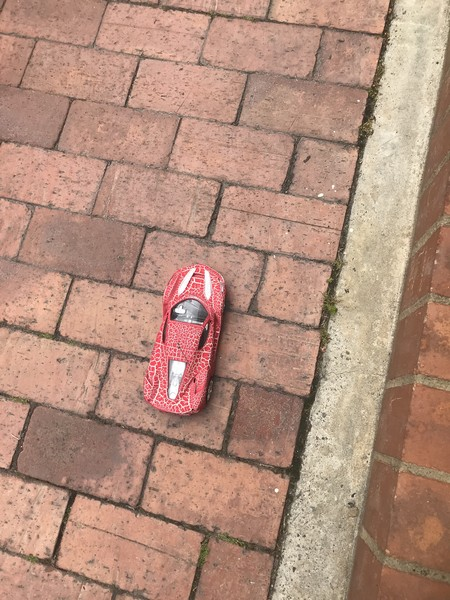RC: (141, 261, 229, 418)
